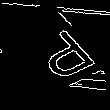P_SE: (14, 23, 96, 87)
